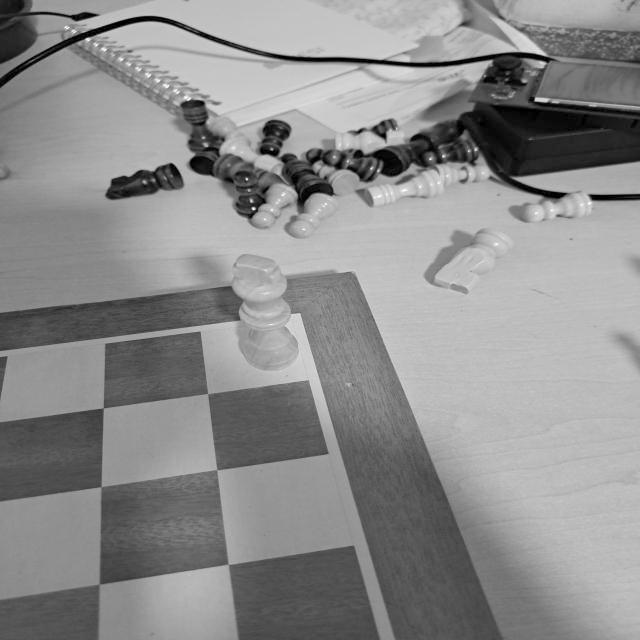chess-table-corners: (286, 305, 312, 322)
